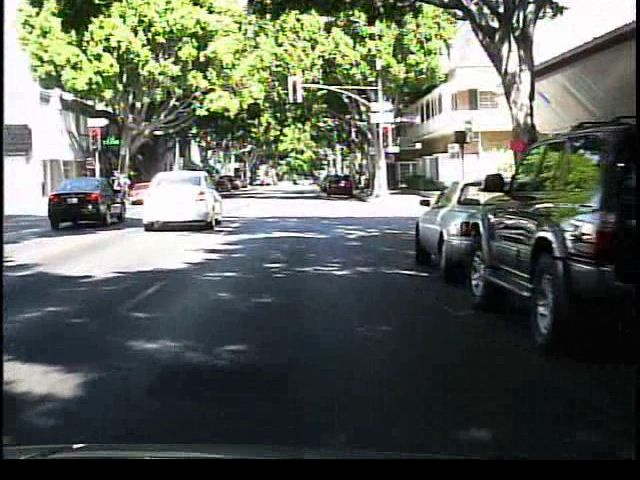person: (113, 162, 139, 203)
